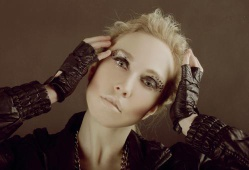female: (80, 16, 179, 138)
